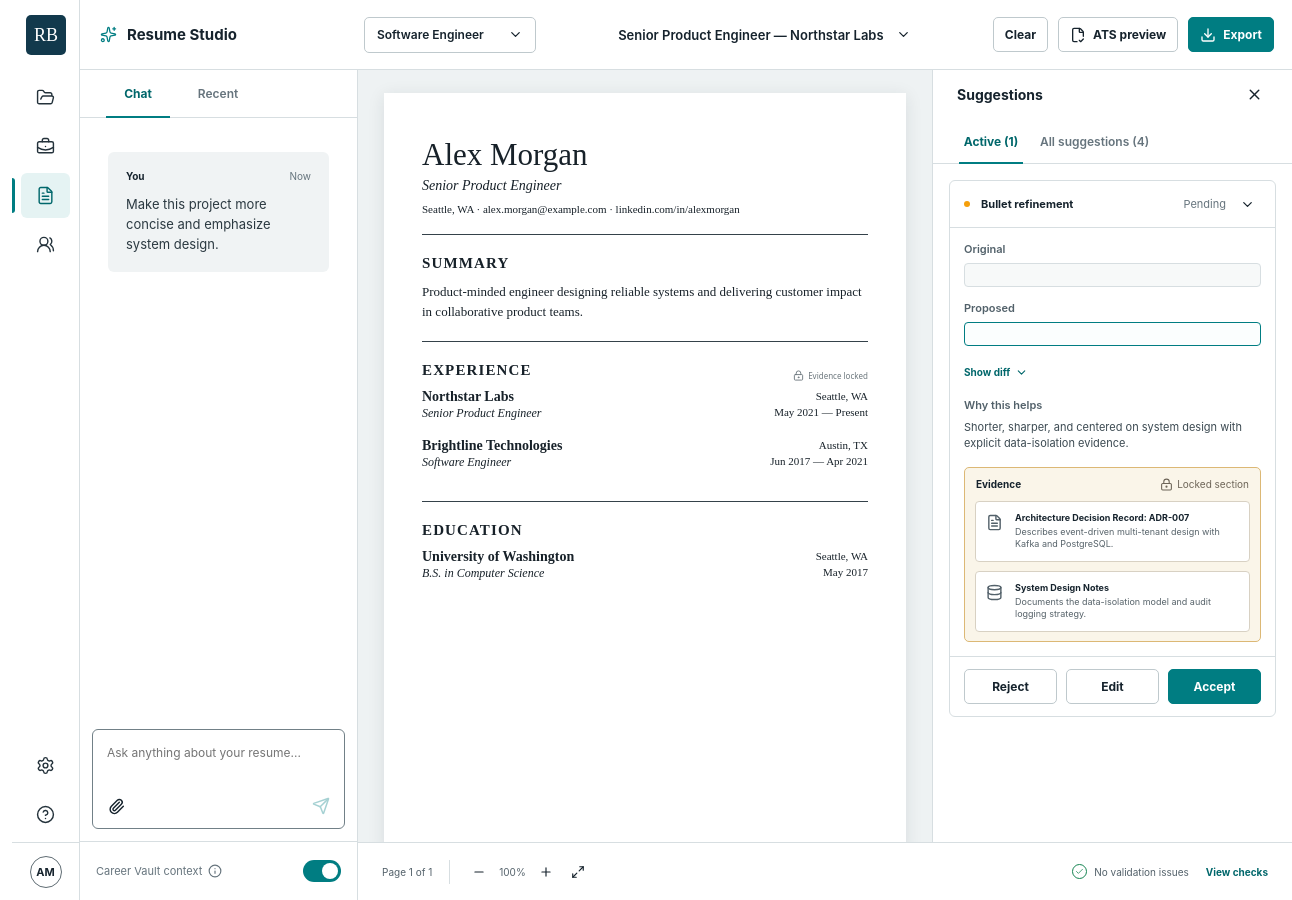
Test: Career Vault management flow › imports pasted text and accepts a consequential fact
This screenshot has width=1292, height=900.
Click the button named "Career Vault" at (46, 98), box [21,75,70,120]
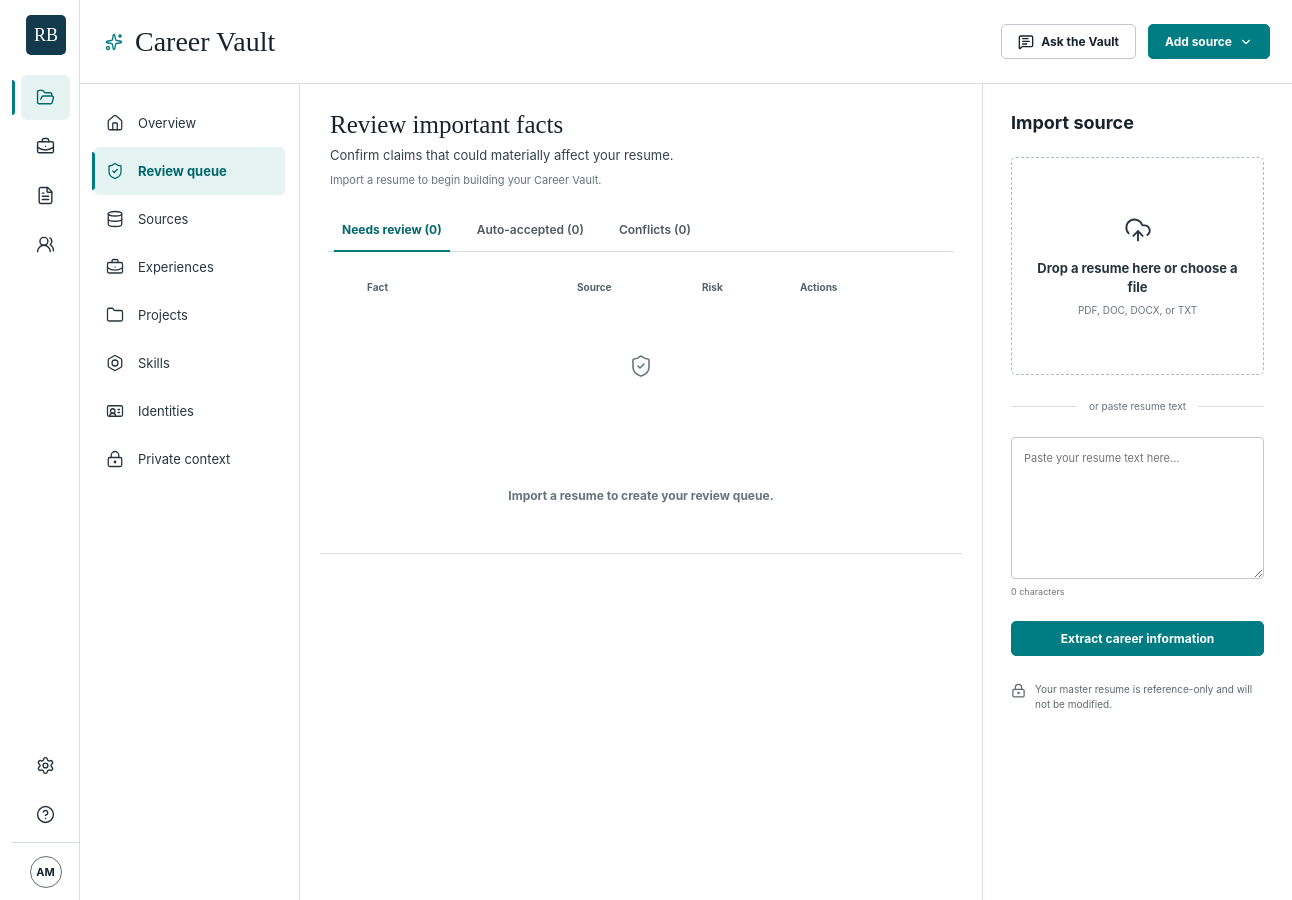
Now the heading "Review important facts" is shown, box [330,111,563,138]
Type "Improved authorization latency by 45%." into the text box labelled "resume text" at (1138, 508), box [1011,437,1264,578]
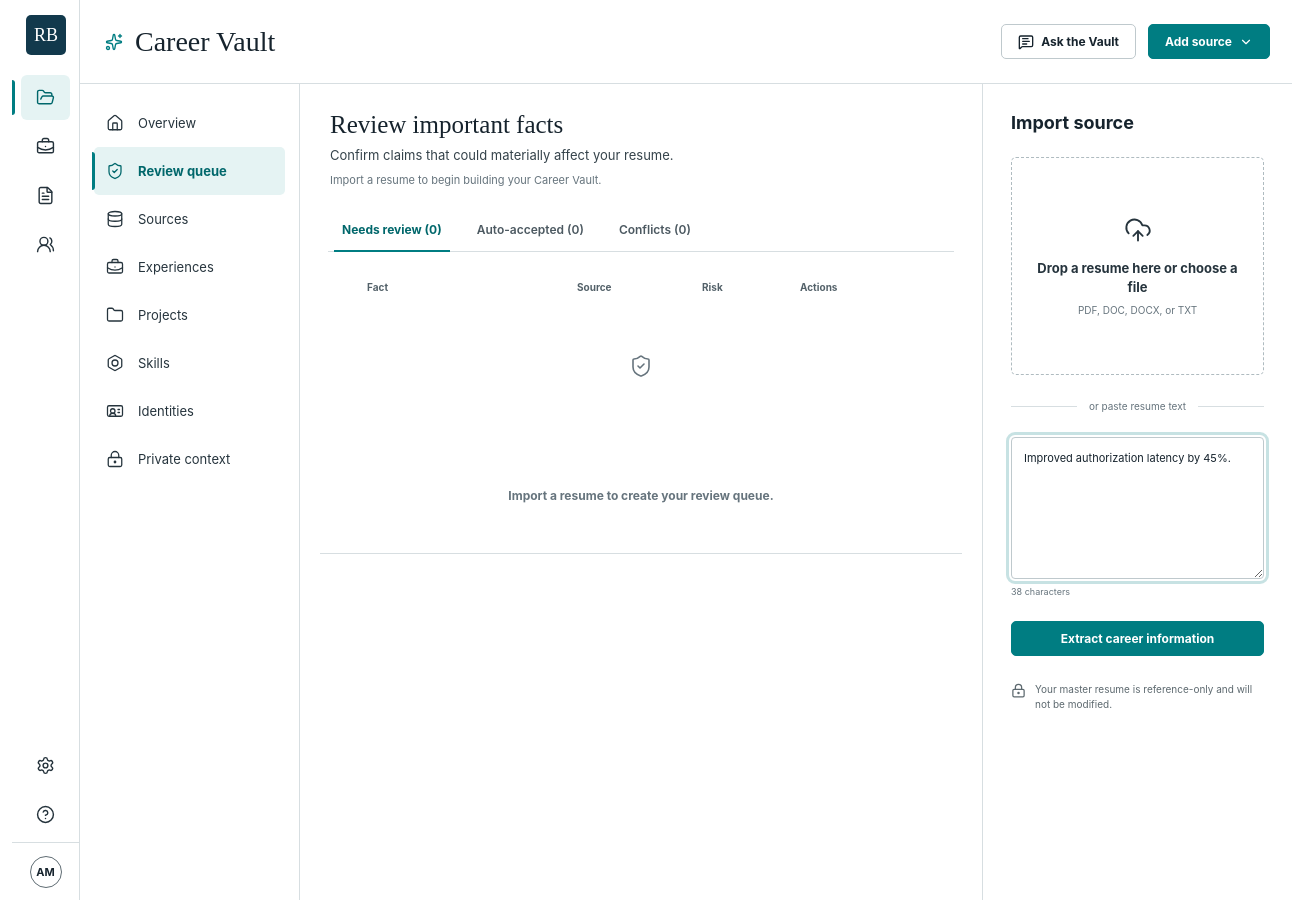
Click the button "Extract career information" at (1138, 638), box [1011,620,1264,656]
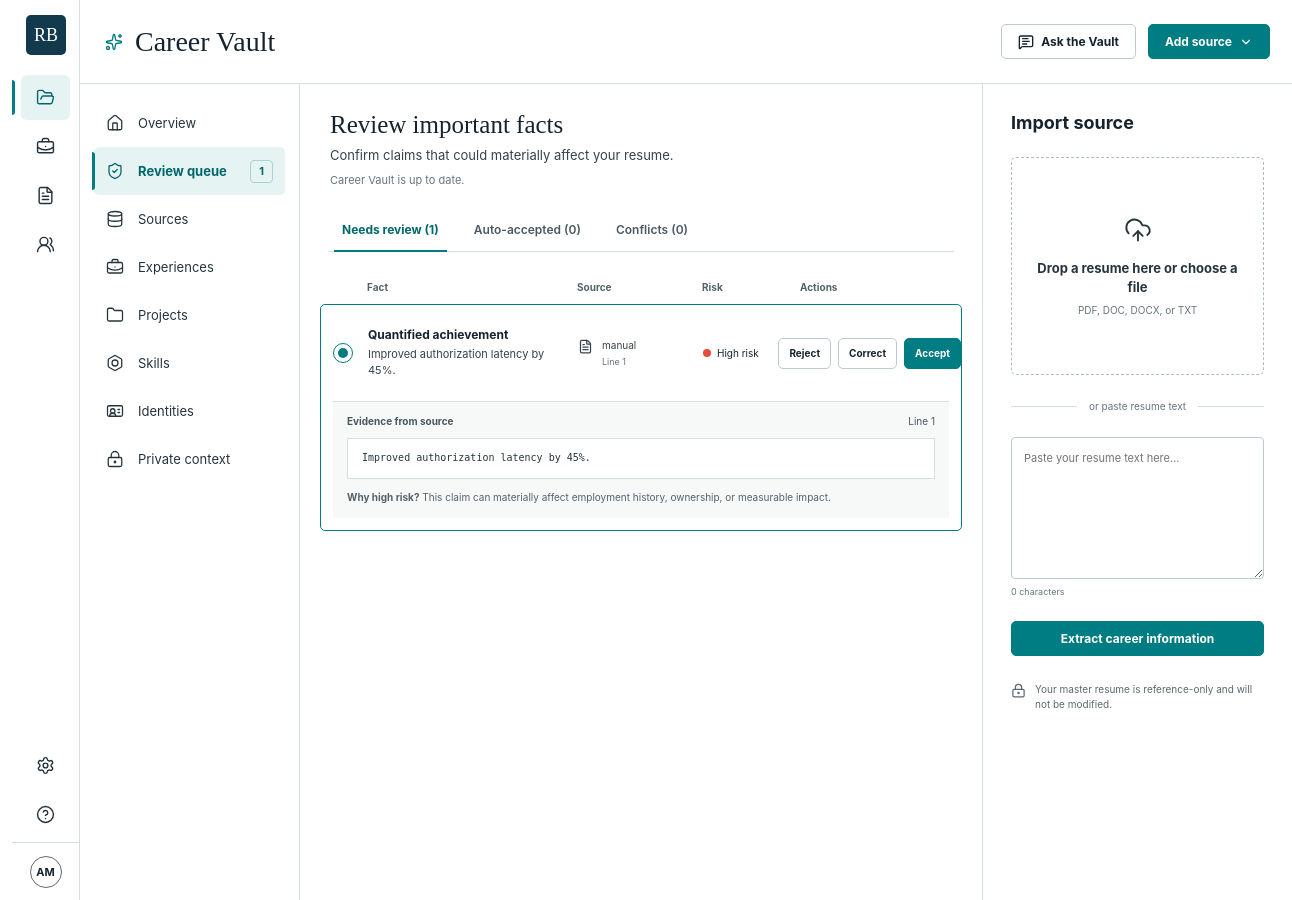
Now the text "Improved authorization latency by 45%." is shown 2 times, box [368,347,568,379]; [347,438,935,478]
Now the tab "Needs review (1)" is shown, box [328,207,453,251]
Click the button "Accept" at (933, 353), box [904,338,961,368]
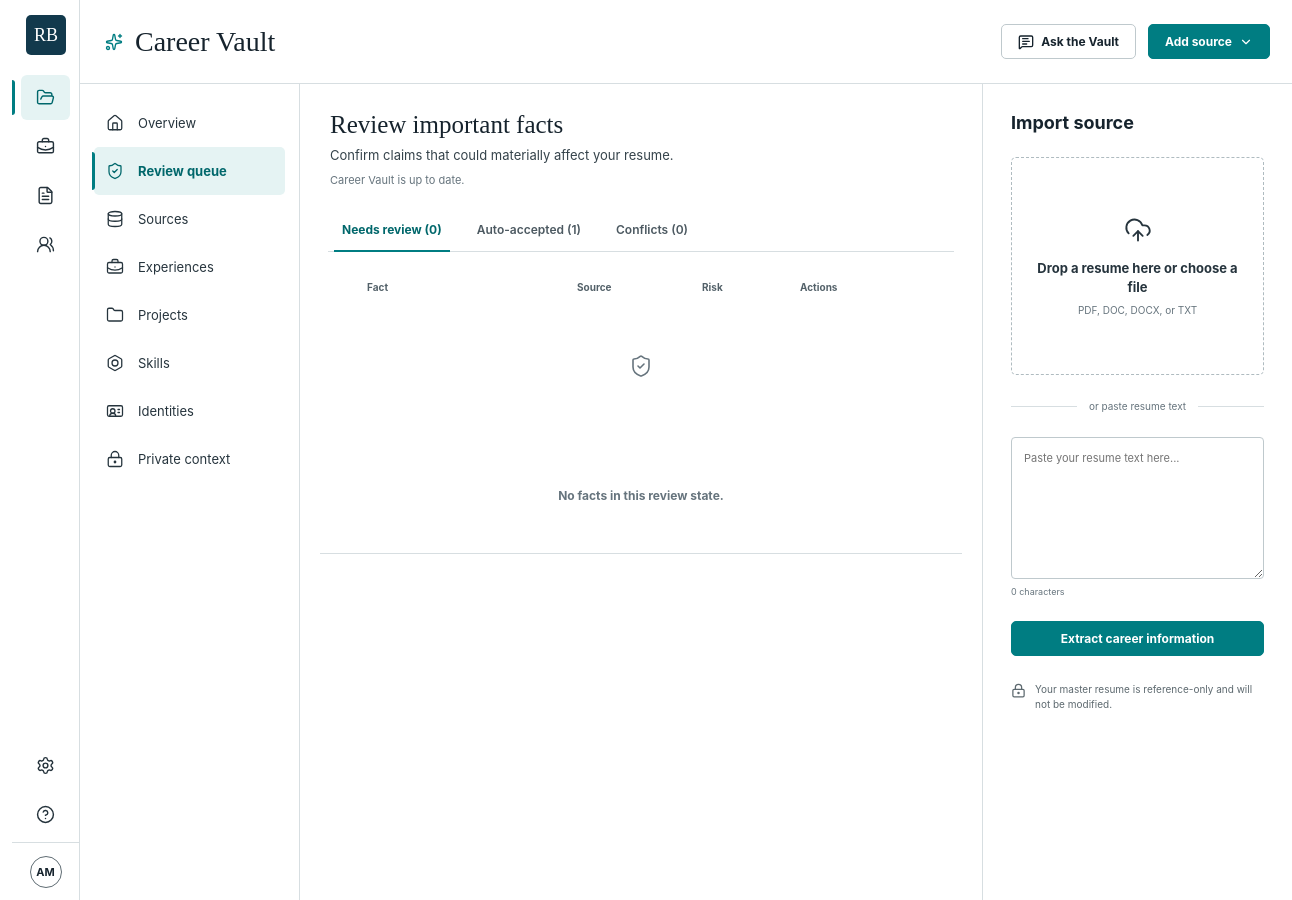
Now the tab "Needs review (0)" is shown, box [328,207,456,251]
Now the tab "Auto-accepted (1)" is shown, box [463,207,595,251]
